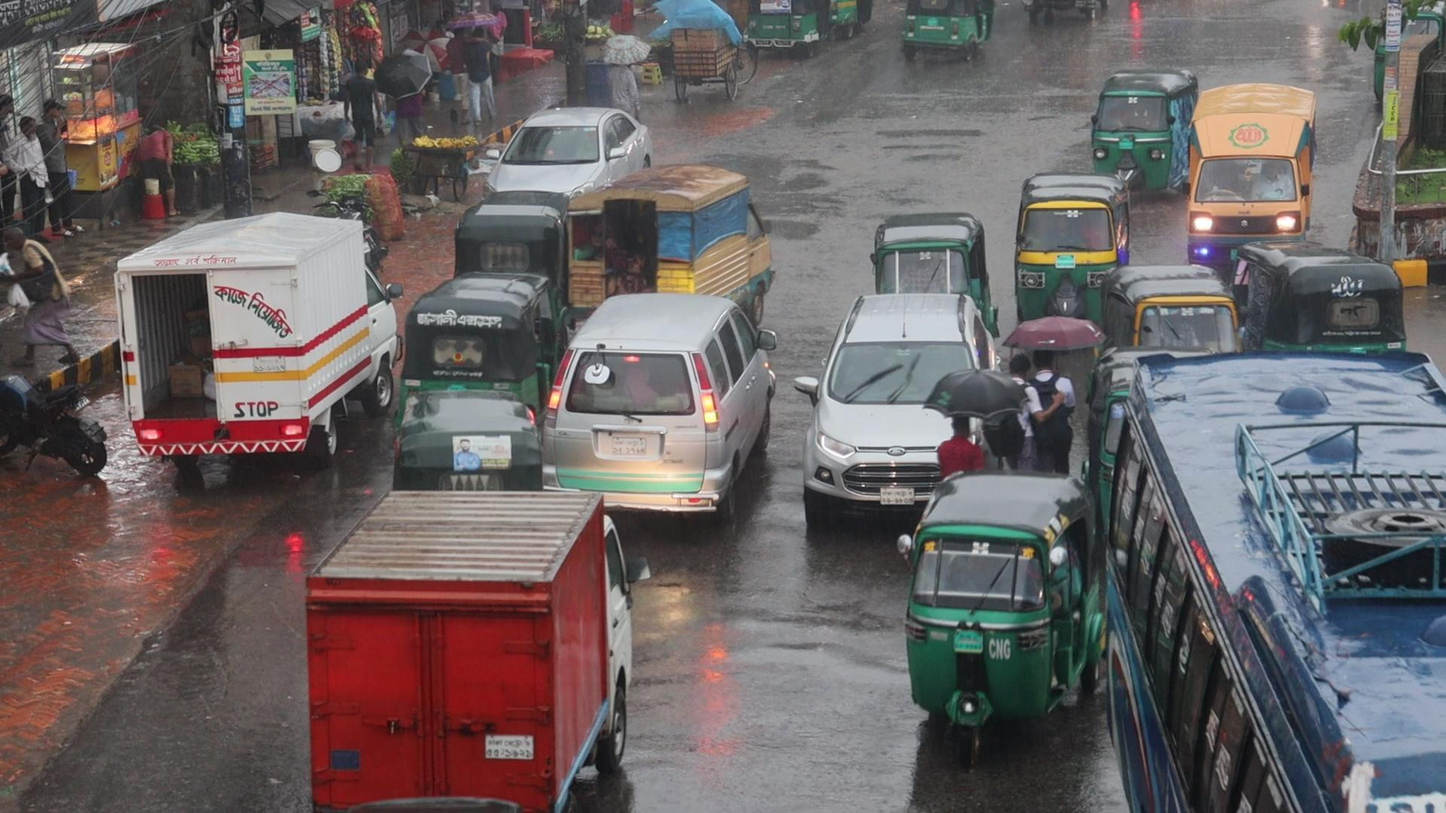Car: (539, 291, 776, 515), (792, 293, 982, 523)
Truck: (297, 479, 648, 813), (563, 161, 775, 294), (1184, 87, 1320, 248)
